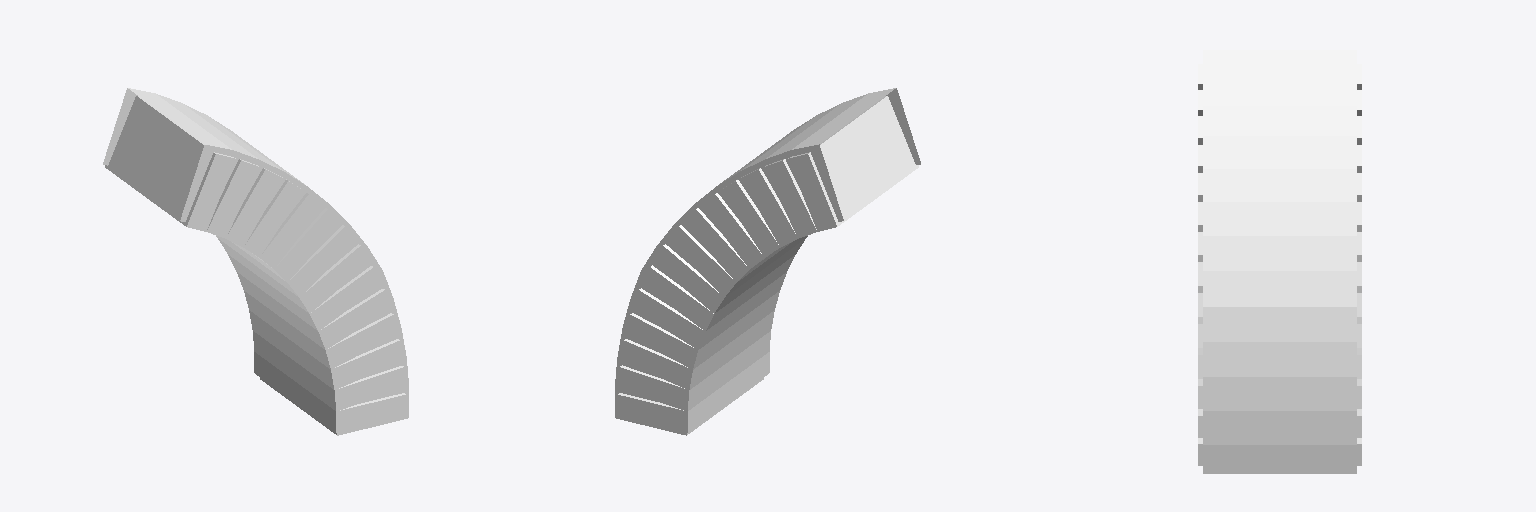
File: lime_mortar_orange_clay_brick_gothic_arch_3.obj
3 views of the same model, side by side, from view 1: azimuth 30°, elevation 25°; view 2: azimuth 150°, elevation 25°; view 3: azimuth 270°, elevation 25° (orthographic).
Parts seen in each view (by area): view 1: bricks, mortar; view 2: bricks, mortar; view 3: mortar, bricks.
Part boxes in pixels (left/top/right/bottom): bricks: left=105, top=96, right=405, bottom=432; mortar: left=103, top=88, right=408, bottom=435; bricks: left=618, top=96, right=918, bottom=432; mortar: left=615, top=88, right=920, bottom=435; mortar: left=1203, top=50, right=1356, bottom=473; bricks: left=1198, top=64, right=1361, bottom=465.
Size of the model in its own units: 1.73 by 2.33 by 1.07.